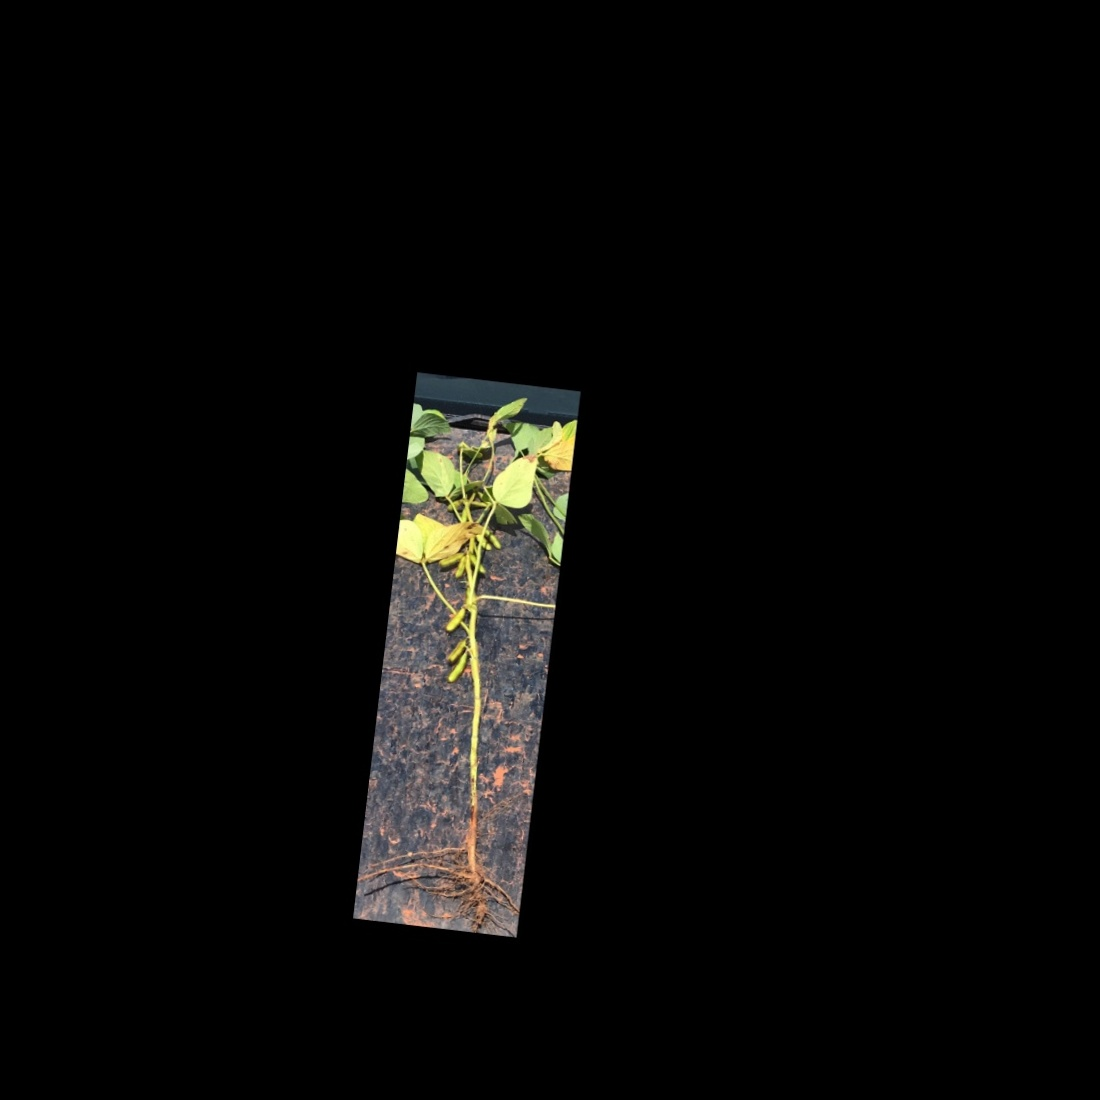pod: (445, 647, 473, 687), (442, 603, 471, 638), (444, 638, 469, 667), (435, 549, 465, 571), (467, 549, 493, 575), (482, 526, 506, 553), (470, 530, 494, 555), (444, 495, 466, 512)
soy: (360, 388, 571, 918)
